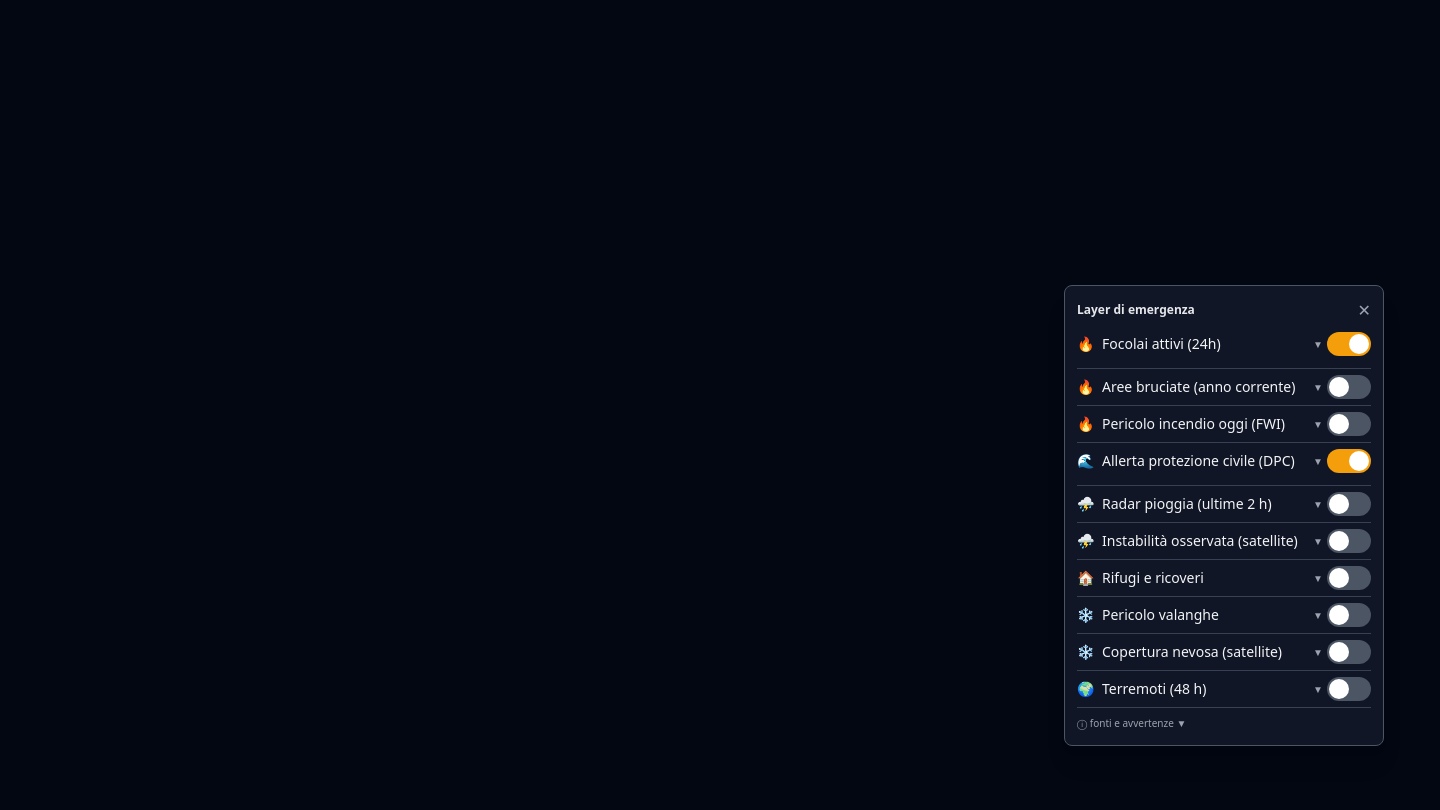
it: pannello layer compatto › una sola riga aperta per volta
Step 1. Click the button "🔥 Focolai attivi (24h) ▼" → (1200, 344), box top-left (1077, 326), bottom-right (1323, 362)
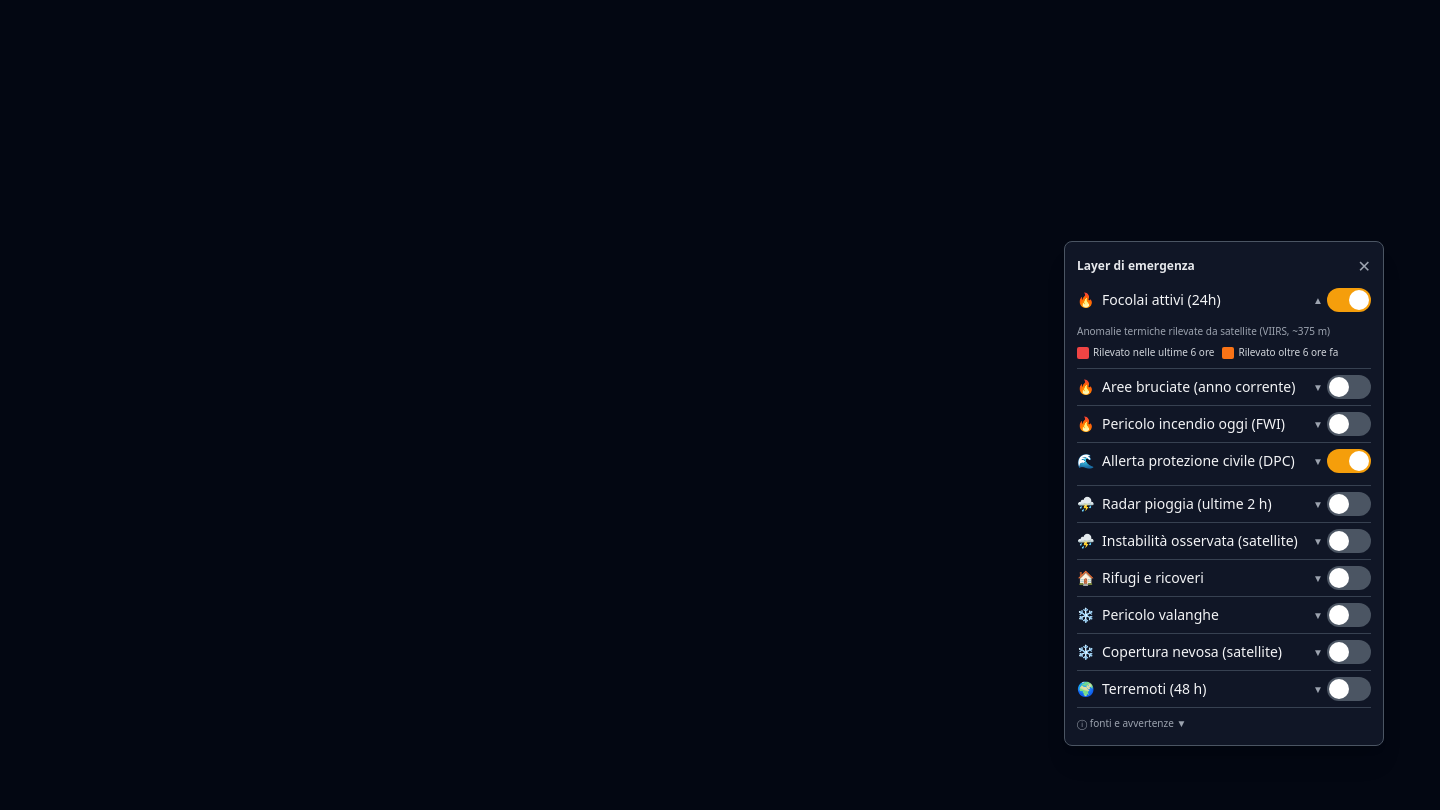
Check: the text "Rilevato nelle ultime 6 ore" is shown, box top-left (1077, 345), bottom-right (1214, 360)
Step 2. Click the button "🌊 Allerta protezione civile (DPC) ▼" → (1200, 461), box top-left (1077, 443), bottom-right (1323, 479)
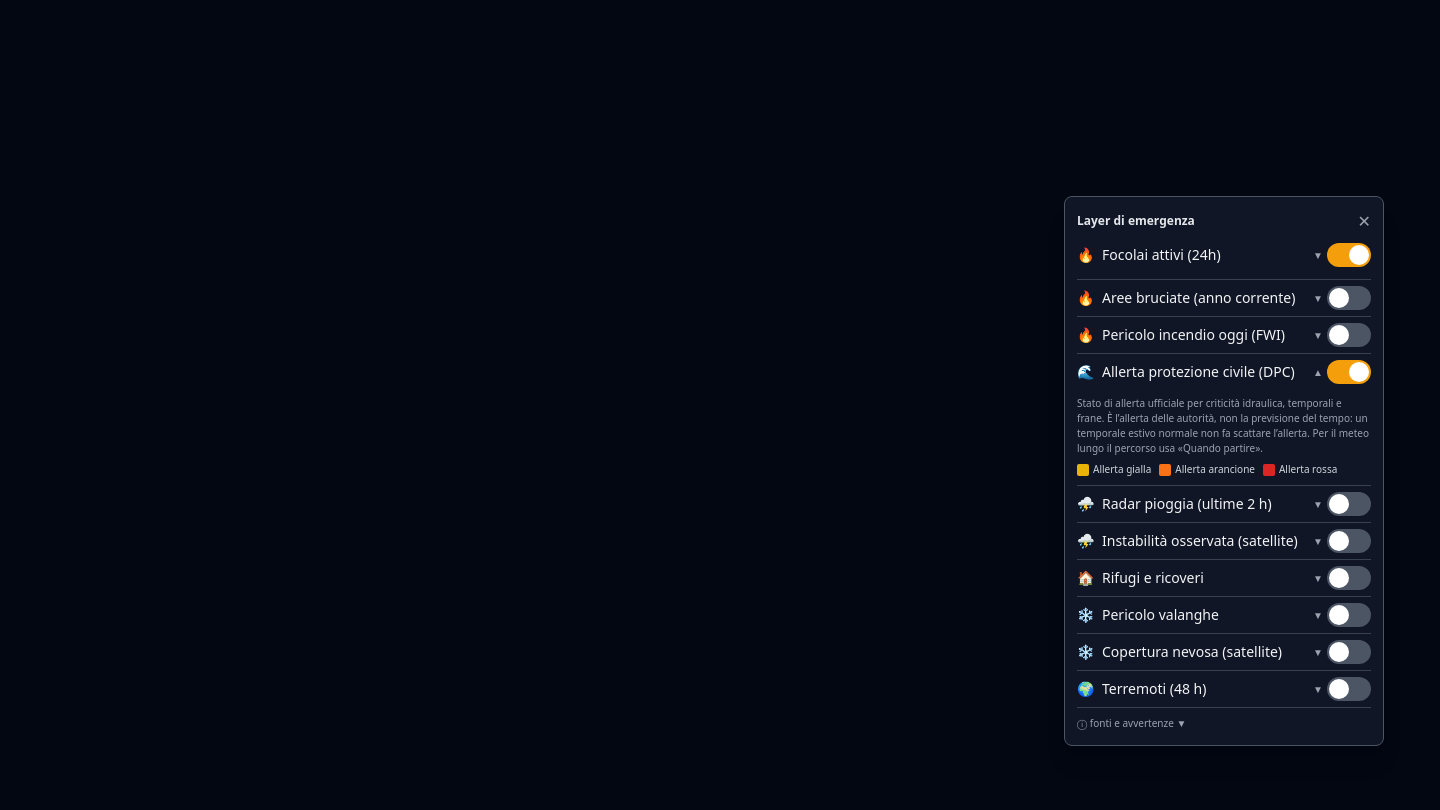
Check: the text "Allerta gialla" is shown, box top-left (1077, 462), bottom-right (1151, 477)
Check: the text "Rilevato nelle ultime 6 ore" is gone
